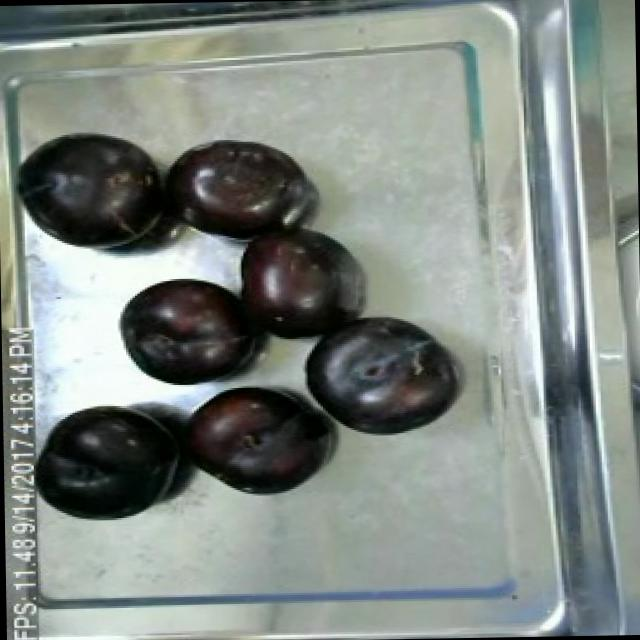Fruit: (297, 310, 458, 444), (31, 396, 187, 527), (12, 130, 168, 258), (108, 267, 262, 394), (177, 378, 331, 500), (224, 214, 358, 348), (165, 134, 306, 244)
